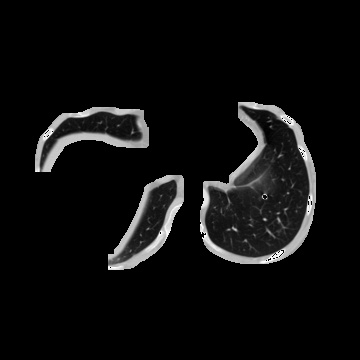PN: (262, 193, 268, 199)
